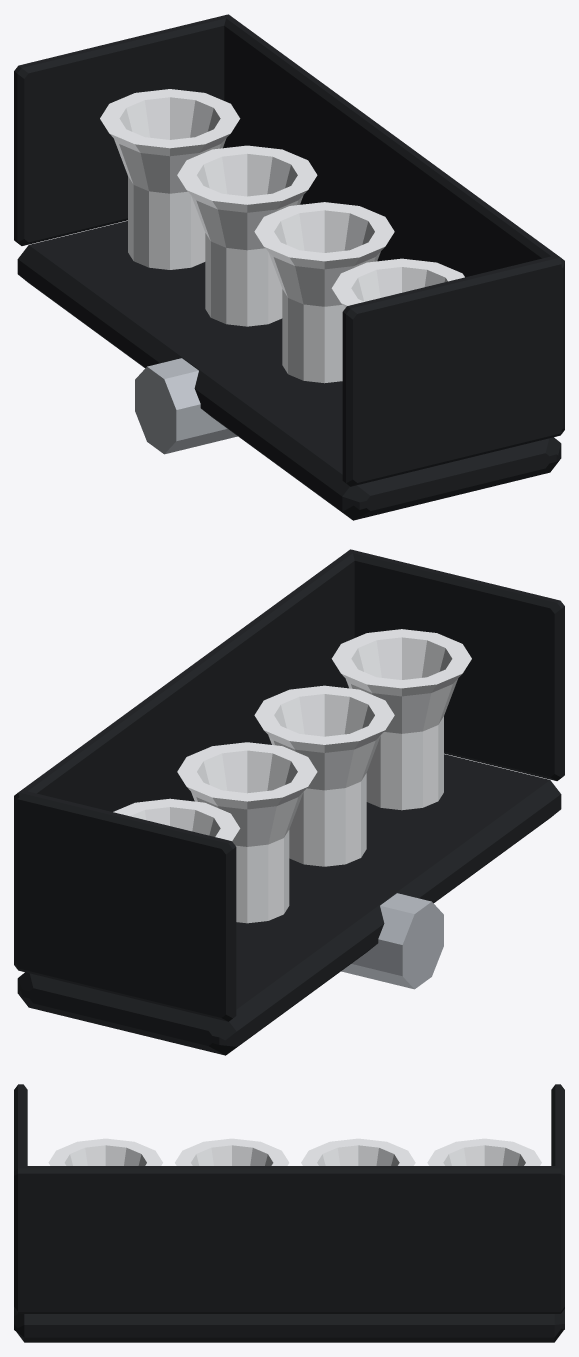
The model's file is intake_race.glb.
3 views of the same model, one above another, from view 1: azimuth 30°, elevation 25°; view 2: azimuth 150°, elevation 25°; view 3: azimuth 270°, elevation 25° (orthographic). The views are drawn at different scales.
Visible parts, largest first — view 1: model; view 2: model; view 3: model.
Part boxes in pixels (<box>): model: <box>14,14,564,520</box>; model: <box>14,549,564,1055</box>; model: <box>14,1084,564,1342</box>.
Size of the model in its own units: 0.2 by 0.1995 by 0.48.
Materials: 3 (1 with a texture image).
